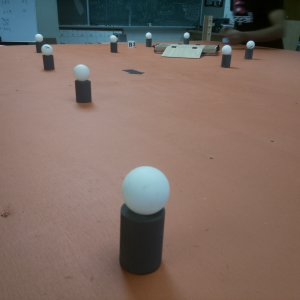obstacle: (120, 167, 167, 277), (74, 64, 93, 103), (41, 45, 54, 73), (220, 45, 232, 67), (108, 33, 118, 54), (243, 41, 255, 58), (34, 31, 45, 43), (145, 30, 152, 46), (183, 32, 191, 43)
side: (205, 45, 219, 57), (154, 43, 164, 52)
slope: (167, 45, 199, 58)
